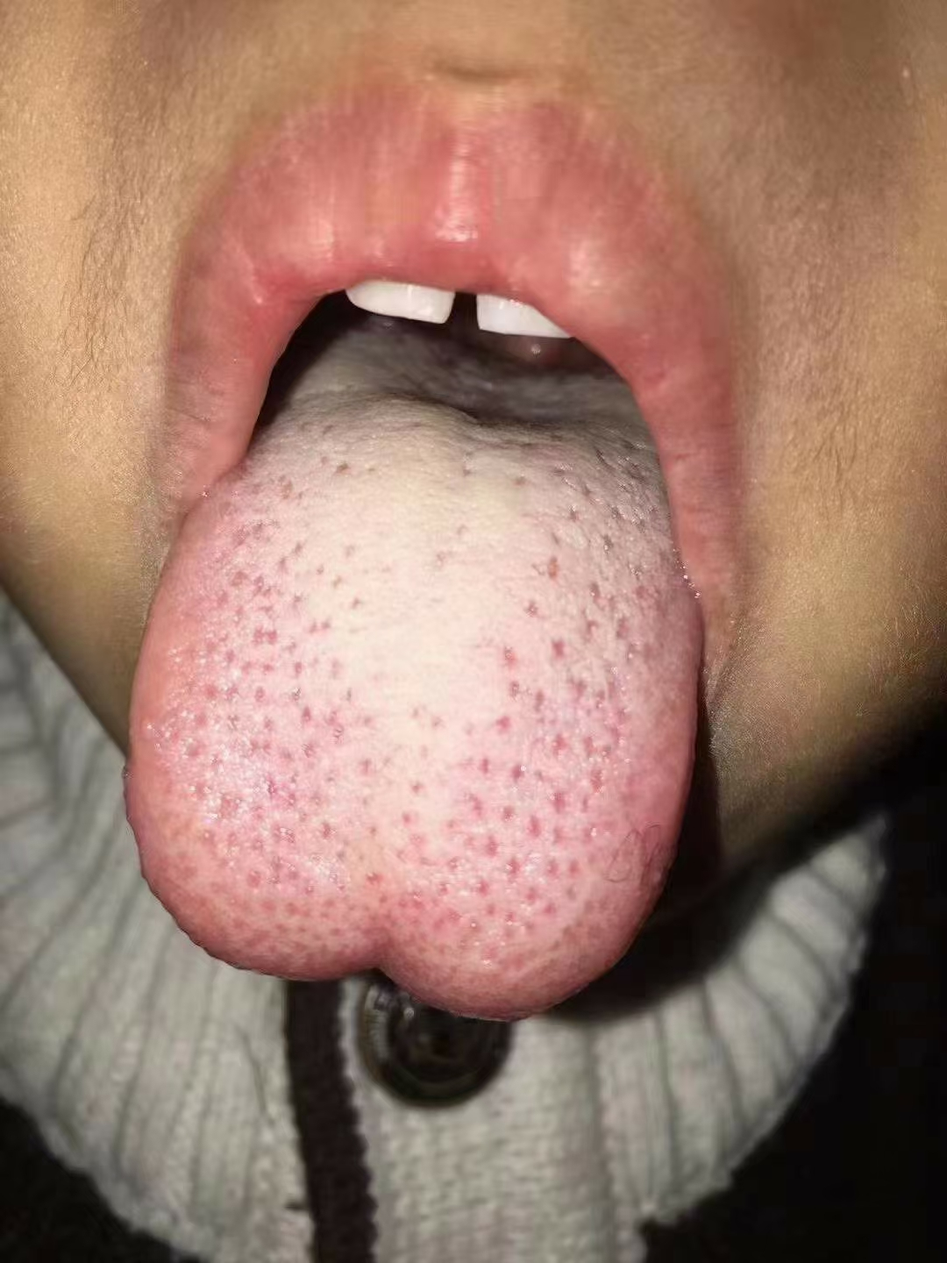baitaishe: (125, 309, 705, 1024)
hongdianshe: (362, 867, 381, 887)
pangdashe: (125, 309, 705, 1024)
shenquao: (293, 308, 631, 444)
xinfeiao: (247, 942, 472, 1017)
